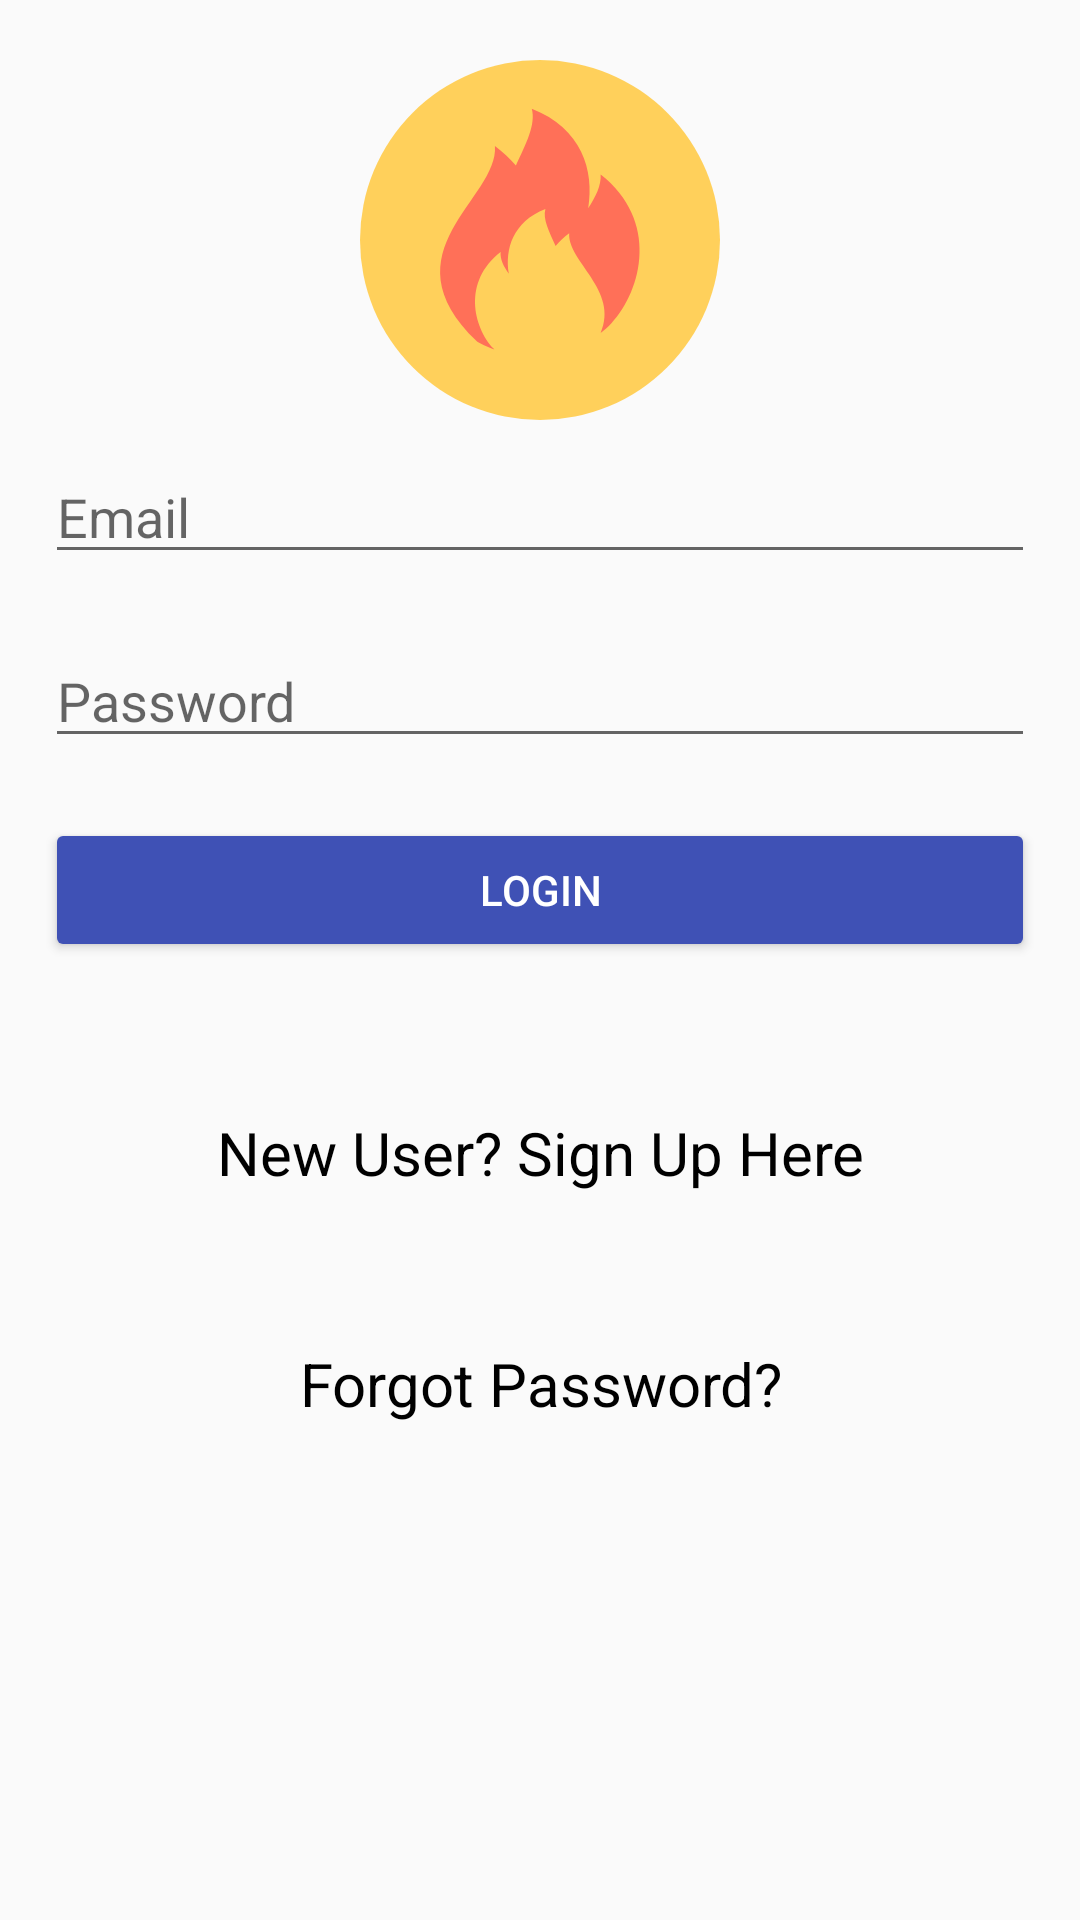

Screen size 1080w x 1920h. Icon name, then its box in pixels as detection(x1, y1, x2, y2):
fire: detection(360, 60, 720, 420)
